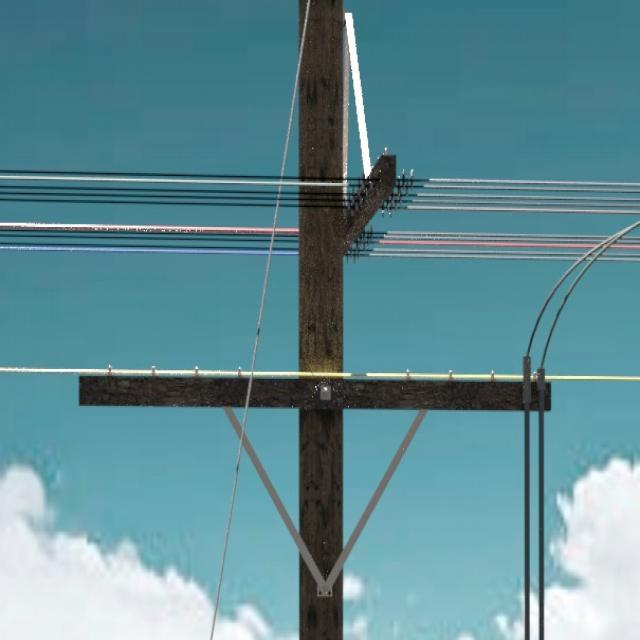crossarm: (78, 378, 550, 415), (345, 152, 398, 248)
pole: (299, 0, 345, 640)
